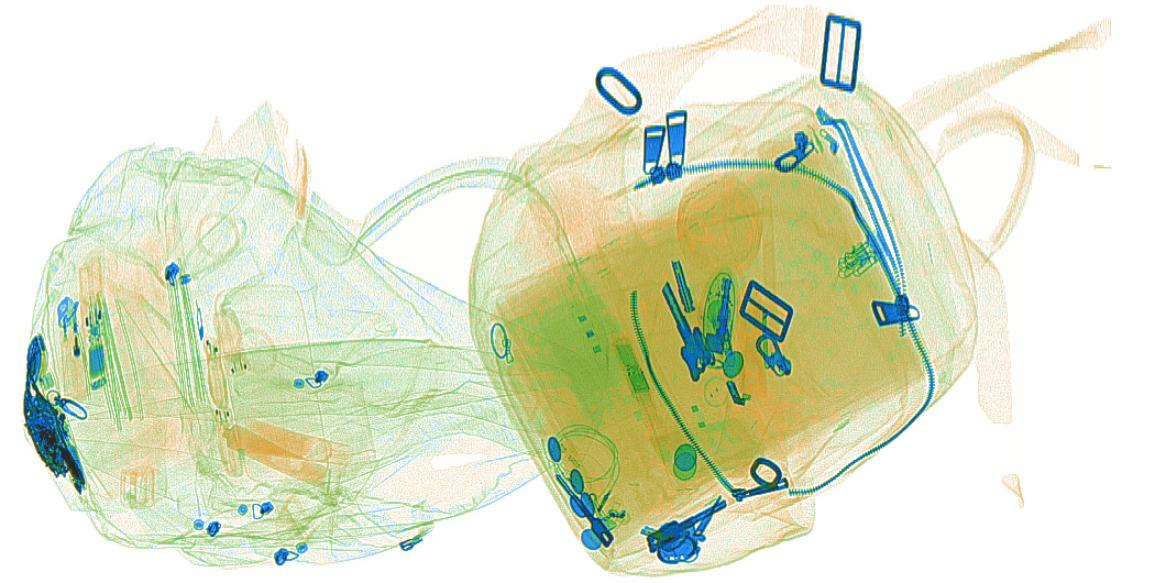USBFlashDisk: (612, 343, 647, 395)
lighter: (53, 293, 87, 396)
